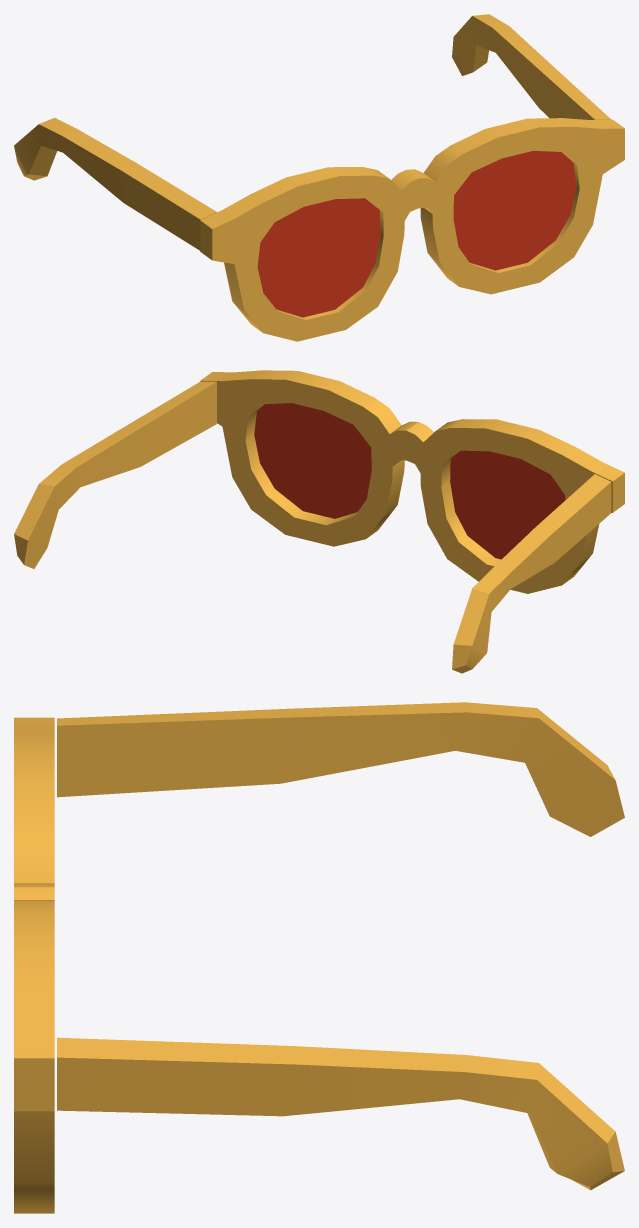
Rendered from Eyewear_11.fbx.
The picture shows the model from 3 angles, top to bottom: view 1: azimuth 30°, elevation 25°; view 2: azimuth 150°, elevation 25°; view 3: azimuth 270°, elevation 25°; orthographic projection. The views are drawn at different scales.
Visible parts, largest first — view 1: Eyewear_11; view 2: Eyewear_11; view 3: Eyewear_11.
Boxes of the visible parts, left/top/right/bottom form: Eyewear_11: left=14, top=14, right=624, bottom=341; Eyewear_11: left=14, top=370, right=624, bottom=673; Eyewear_11: left=14, top=702, right=624, bottom=1213.
Bounding box in the file's own units: 54.71 × 17.71 × 37.34.
